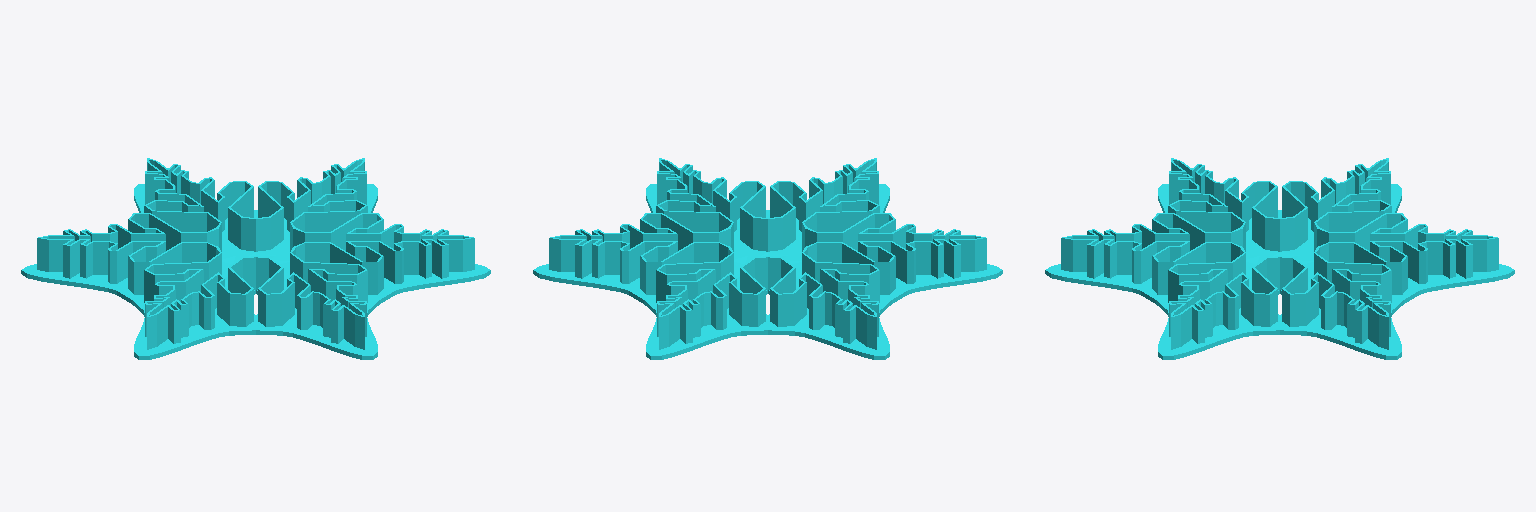
The model's file is snowflake.obj.
3 views of the same model, side by side, from view 1: azimuth 30°, elevation 25°; view 2: azimuth 150°, elevation 25°; view 3: azimuth 270°, elevation 25° (orthographic).
Parts seen in each view (by area): view 1: snowflake; view 2: snowflake; view 3: snowflake.
Part boxes in pixels (left/top/right/bottom): snowflake: left=21, top=158, right=490, bottom=359; snowflake: left=533, top=158, right=1002, bottom=359; snowflake: left=1045, top=158, right=1514, bottom=359.
Bounding box in the file's own units: 85.34 × 8.5 × 98.55.